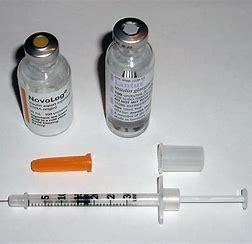Syringe: (0, 173, 250, 228), (98, 10, 158, 141), (10, 28, 77, 142)
